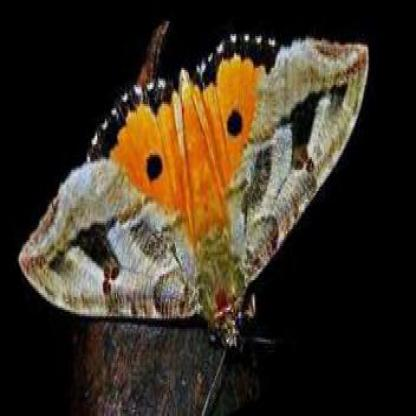fruit sucking moth: (17, 28, 367, 348)
